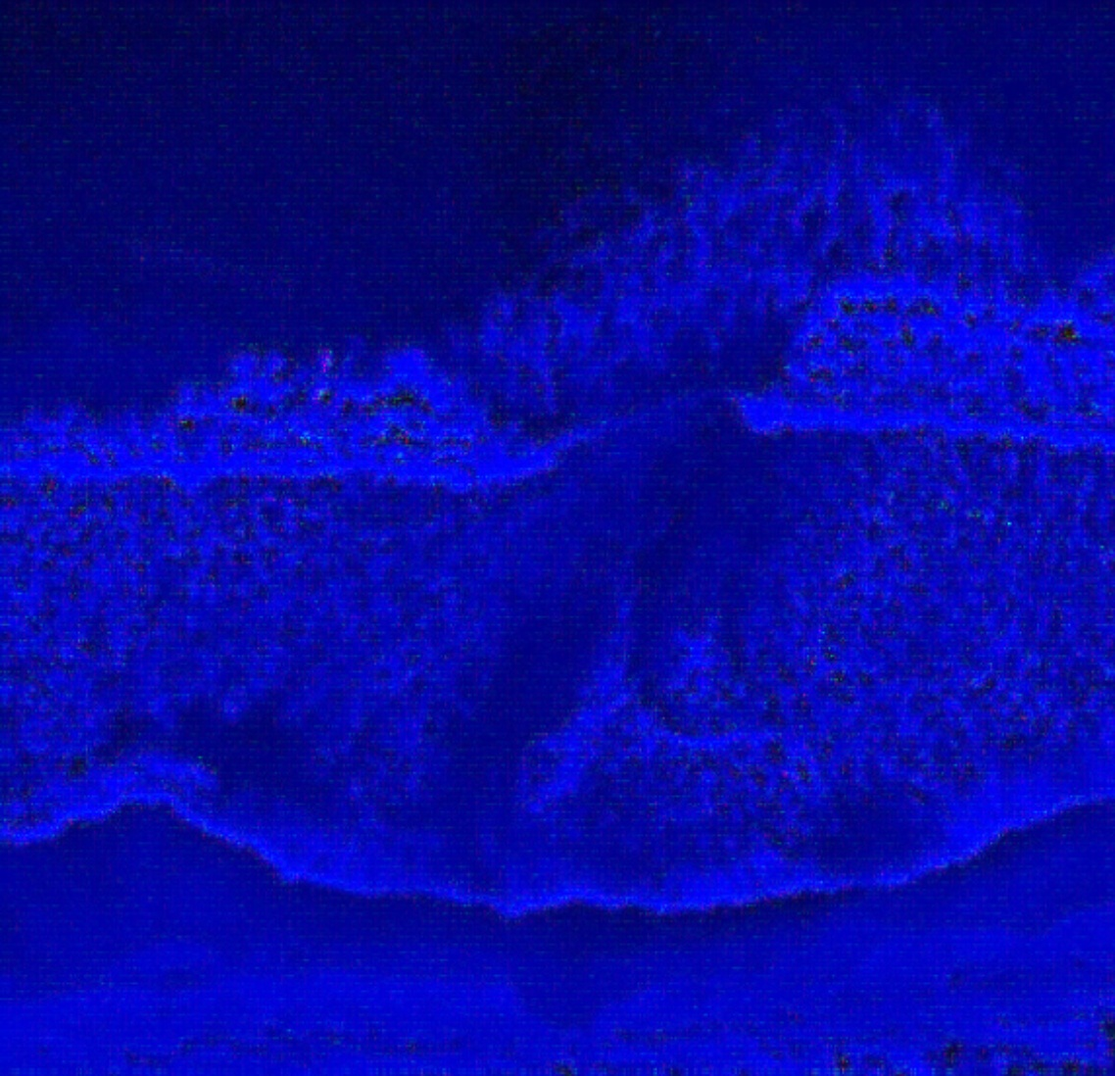rip_current: (403, 158, 822, 806)
